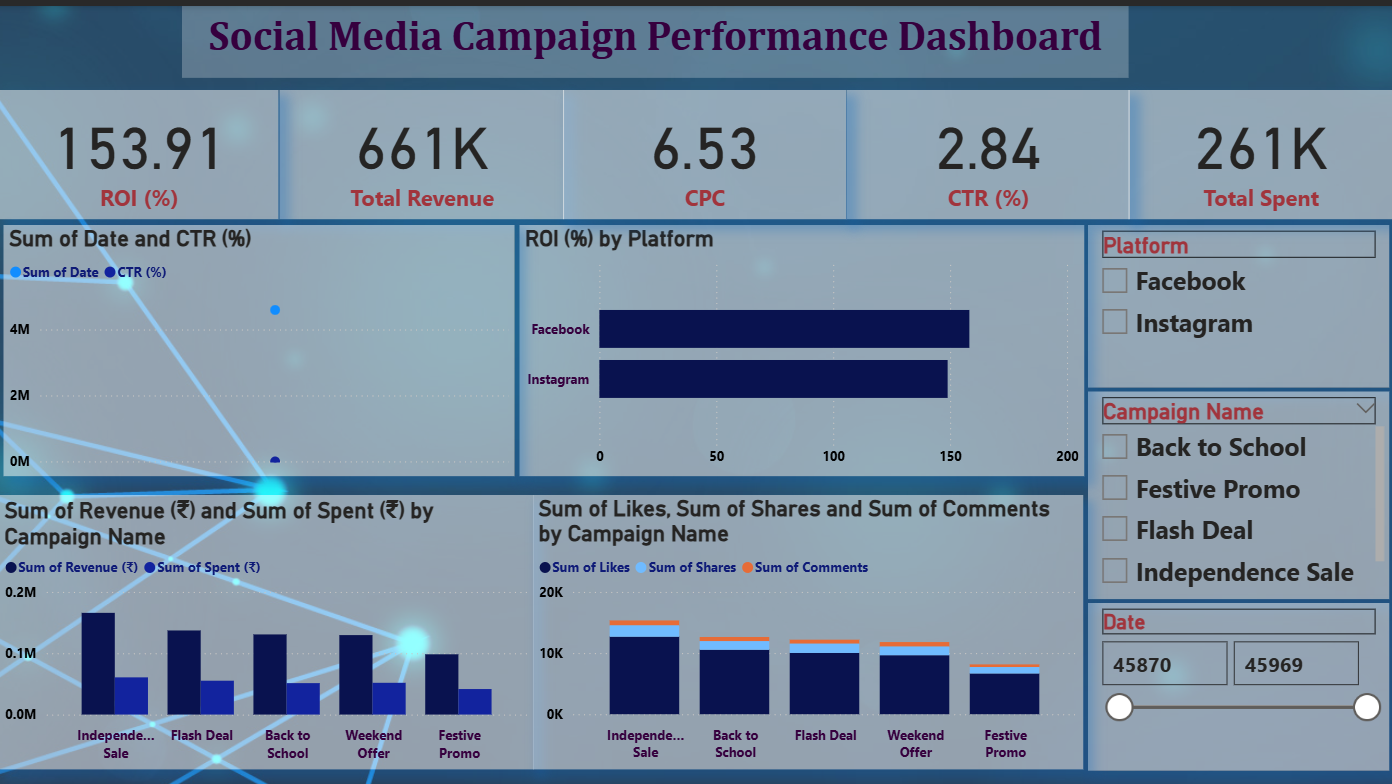

The page's visual inventory and layout, read from the dashboard file:
{"tool":"powerbi","page":{"name":"Page 1","canvas":[1280,720],"ordinal":0},"visuals":[{"type":"textbox","box":[167.7,0,869.2,66.2],"z":0},{"type":"slicer","fields":{"Values":["Sheet1.Platform"]},"box":[1000,201.5,276.9,149.2],"z":1000},{"type":"slicer","fields":{"Values":["Sheet1.Campaign Name"]},"box":[1000,353.8,276.9,190.8],"z":2000},{"type":"slicer","fields":{"Values":["Sheet1.Date"]},"box":[1000,547.7,276.9,153.8],"z":3000},{"type":"card","title":"Total Revenue ","fields":{"Values":["Sum(Sheet1.Revenue (₹))"]},"box":[256.9,76.9,261.5,118.5],"z":4000},{"type":"card","fields":{"Values":["Sum(Sheet1.Spent (₹))"]},"box":[1036.9,76.9,243.1,118.5],"z":5000},{"type":"card","fields":{"Values":["Sheet1.ROI (%)"]},"box":[0,76.9,256.9,118.5],"z":6000},{"type":"clusteredBarChart","fields":{"Y":["Sheet1.ROI (%)"],"Category":["Sheet1.Platform"]},"box":[478.5,201.5,518.5,230.8],"z":7000},{"type":"areaChart","fields":{"Y":["Sum(Sheet1.Date)","Sheet1.CTR (%)"]},"box":[4.6,201.5,469.2,230.8],"z":8000},{"type":"card","fields":{"Values":["Sheet1.CTR (%)"]},"box":[778.5,76.9,260,118.5],"z":9000},{"type":"card","fields":{"Values":["Sheet1.CPC"]},"box":[518.5,76.9,260,118.5],"z":10000},{"type":"clusteredColumnChart","fields":{"Y":["Sum(Sheet1.Revenue (₹))","Sum(Sheet1.Spent (₹))"],"Category":["Sheet1.Campaign Name"]},"box":[0,449.2,490.8,252.3],"z":11000},{"type":"columnChart","fields":{"Y":["Sum(Sheet1.Likes)","Sum(Sheet1.Shares)","Sum(Sheet1.Comments)"],"Category":["Sheet1.Campaign Name"]},"box":[491,449,505,252],"z":11001}]}

Visuals, with their boxes in screenshot pixels (x1, y1, x2, y2), scaled from the page's 1280x720 canvas onto the 1392x784 screenshot:
textbox: (left=182, top=0, right=1128, bottom=72)
slicer - Sheet1.Platform: (left=1088, top=219, right=1389, bottom=382)
slicer - Sheet1.Campaign Name: (left=1088, top=385, right=1389, bottom=593)
slicer - Sheet1.Date: (left=1088, top=596, right=1389, bottom=764)
"Total Revenue " card: (left=279, top=84, right=564, bottom=213)
card - Sum(Sheet1.Spent (₹)): (left=1128, top=84, right=1391, bottom=213)
card - Sheet1.ROI (%): (left=0, top=84, right=279, bottom=213)
clusteredBarChart - Sheet1.ROI (%) x Sheet1.Platform: (left=520, top=219, right=1084, bottom=471)
areaChart - Sum(Sheet1.Date) x Sheet1.CTR (%): (left=5, top=219, right=515, bottom=471)
card - Sheet1.CTR (%): (left=847, top=84, right=1129, bottom=213)
card - Sheet1.CPC: (left=564, top=84, right=847, bottom=213)
clusteredColumnChart - Sum(Sheet1.Revenue (₹)) x Sum(Sheet1.Spent (₹)): (left=0, top=489, right=534, bottom=764)
columnChart - Sum(Sheet1.Likes) x Sum(Sheet1.Shares): (left=534, top=489, right=1083, bottom=763)
